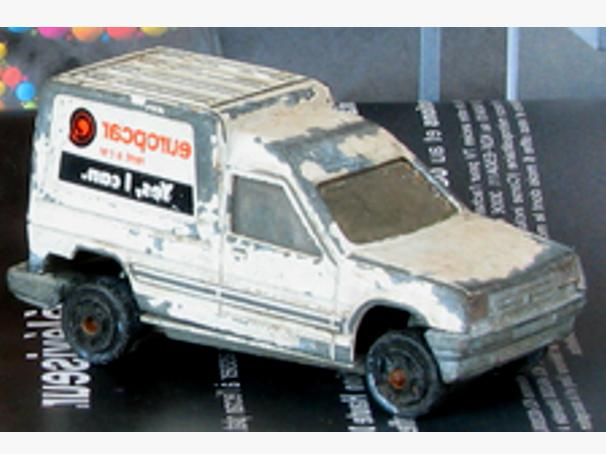toy-car: (6, 45, 589, 420)
